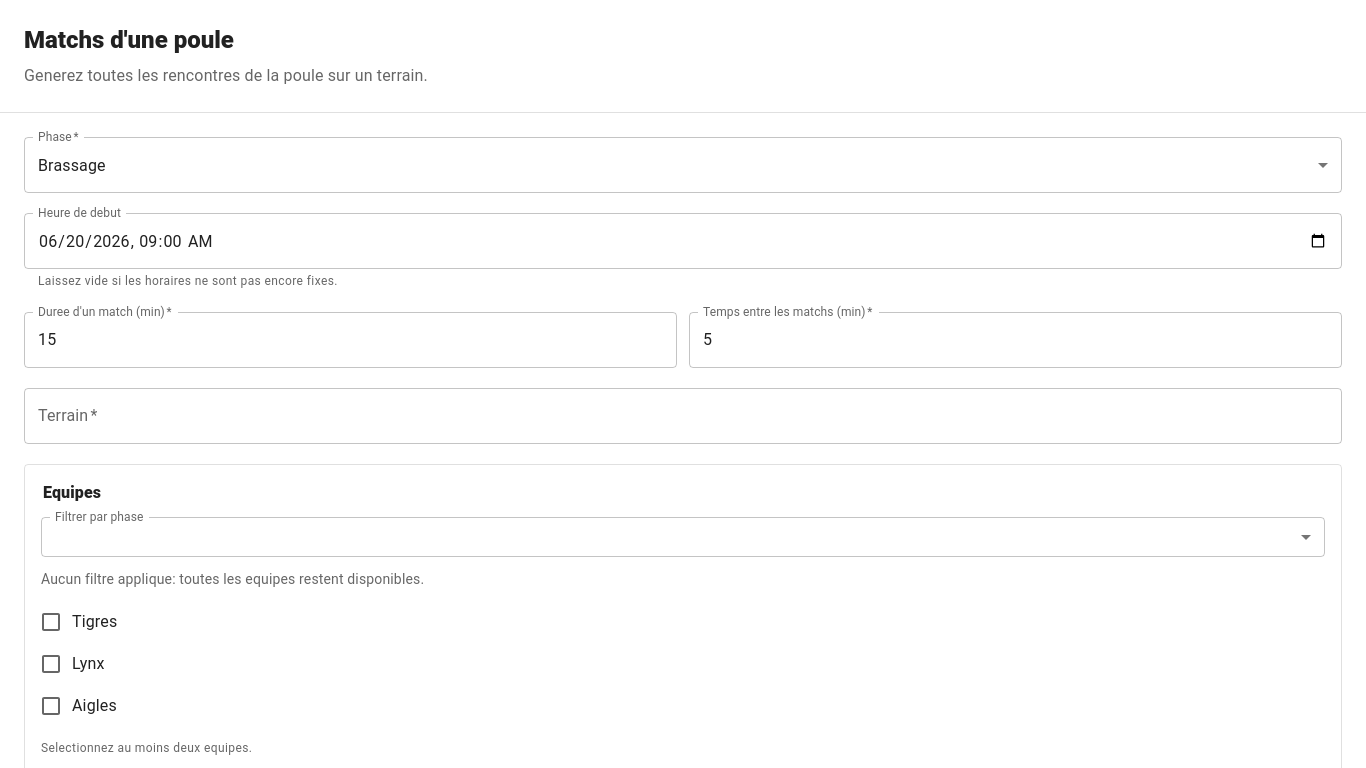
CreatePoolGamesForm › should grey out teams already present in the selected reference phase
Click the checkbox labelled "Tigres": point(78, 622) [39,610,117,634]
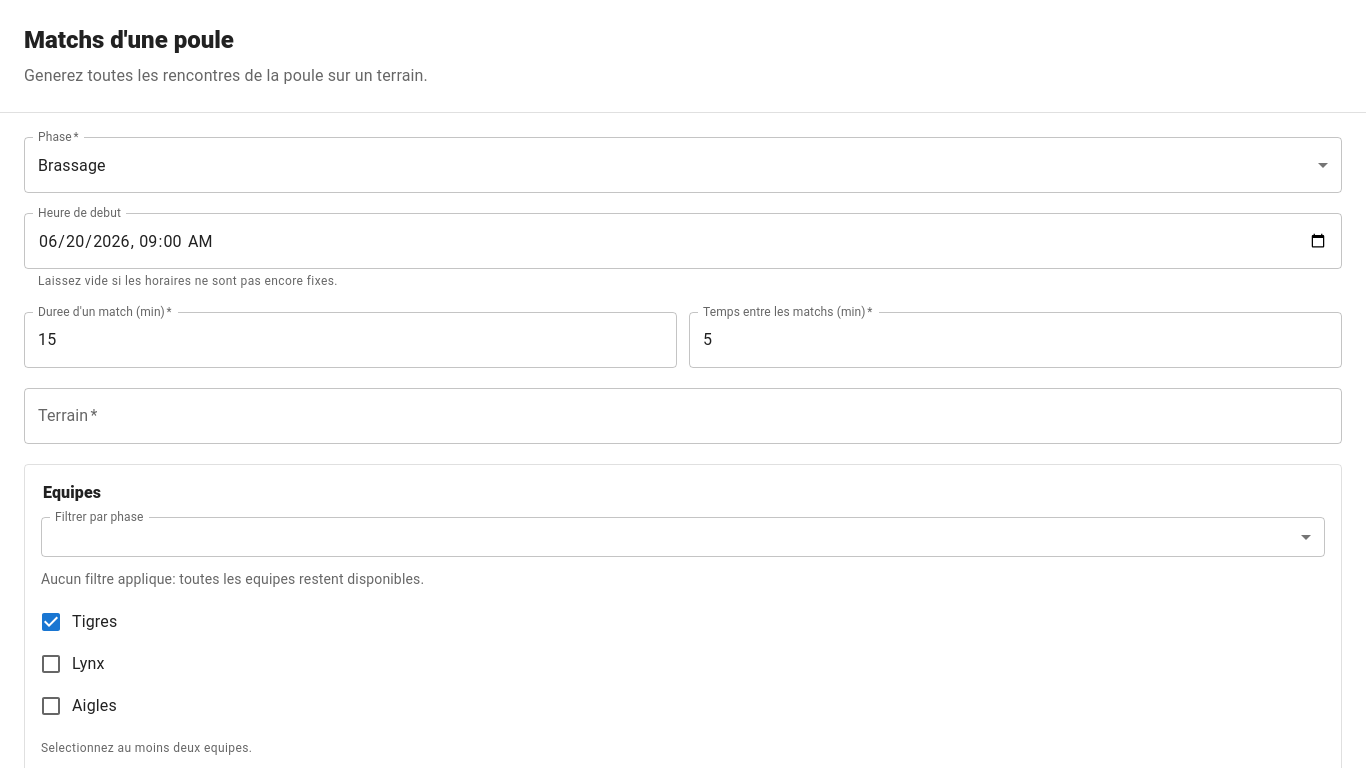
Click the checkbox labelled "Lynx": point(72, 664) [39,652,104,676]
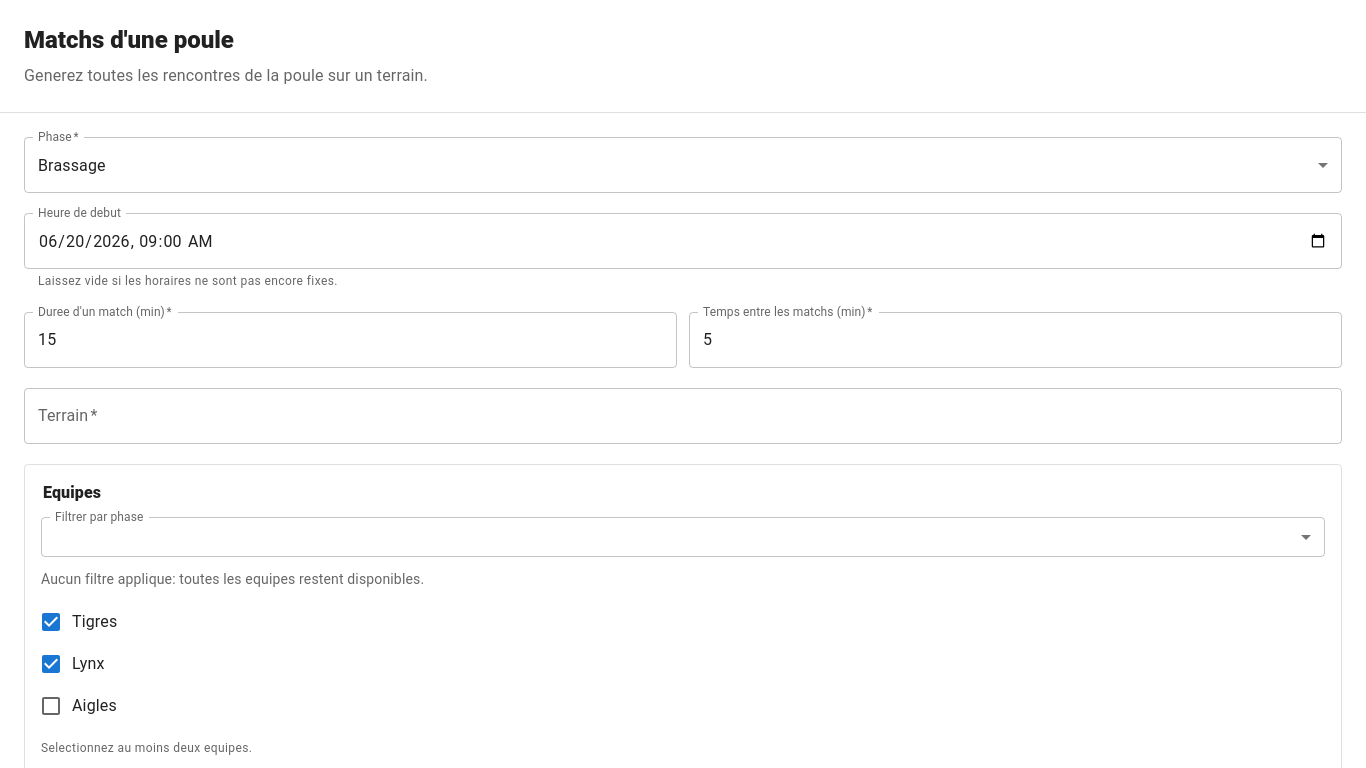
Press the mouse on the dropdown named "Filtrer par phase": point(683, 537) [41,517,1325,557]
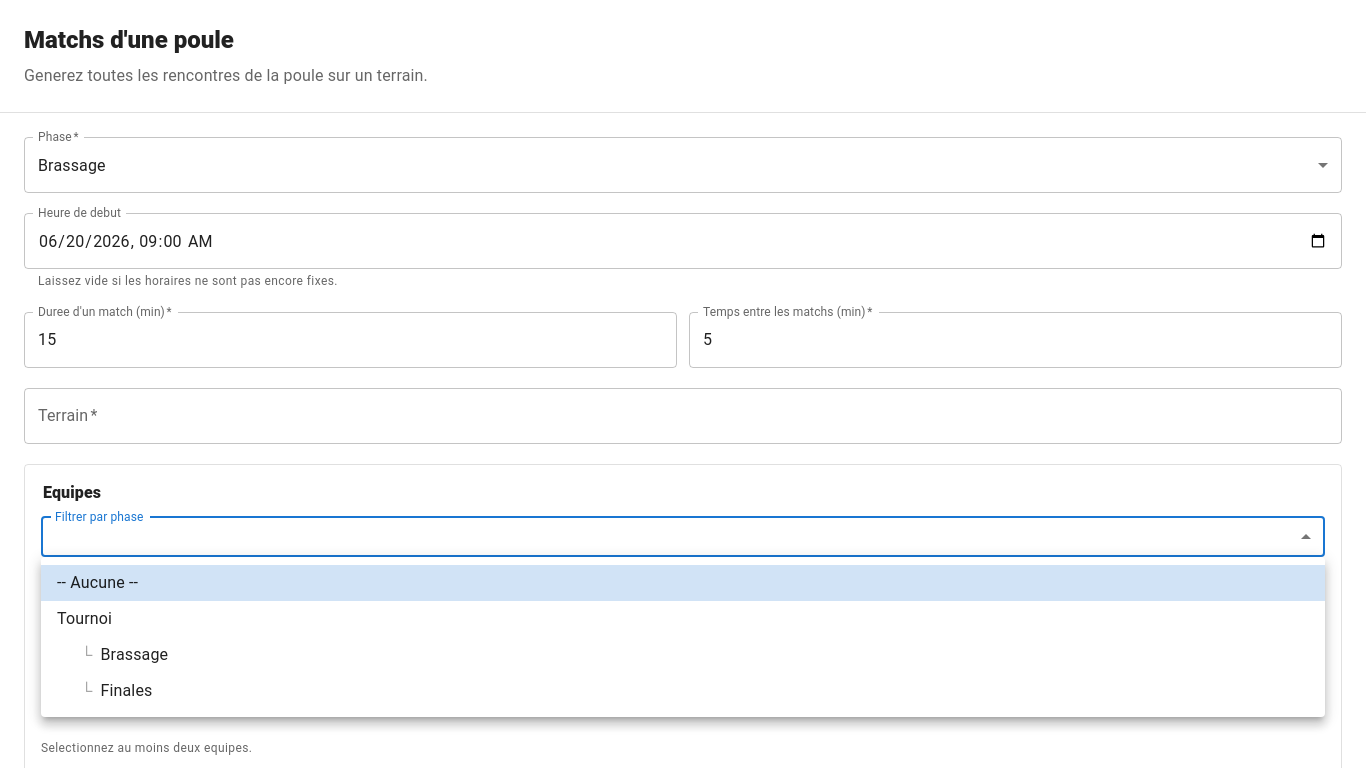
Click the option "└ Brassage": point(125, 654) [81,645,168,664]
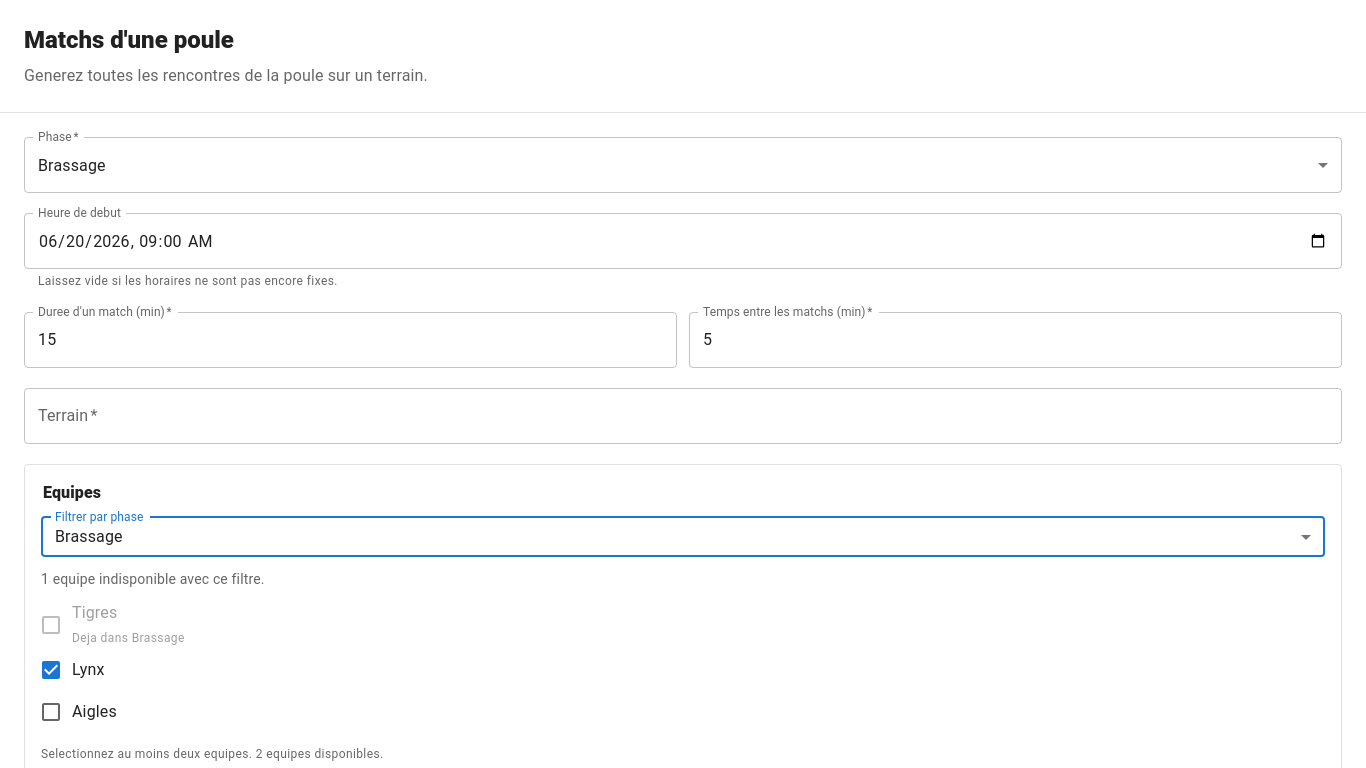
Expected: the checkbox labelled "Tigres Deja dans Brassage" is not checked, [39,603,185,645]
Expected: the checkbox labelled "Lynx" is checked, [39,658,104,682]
Expected: the checkbox labelled "Tigres Deja dans Brassage" is disabled, [39,603,185,645]
